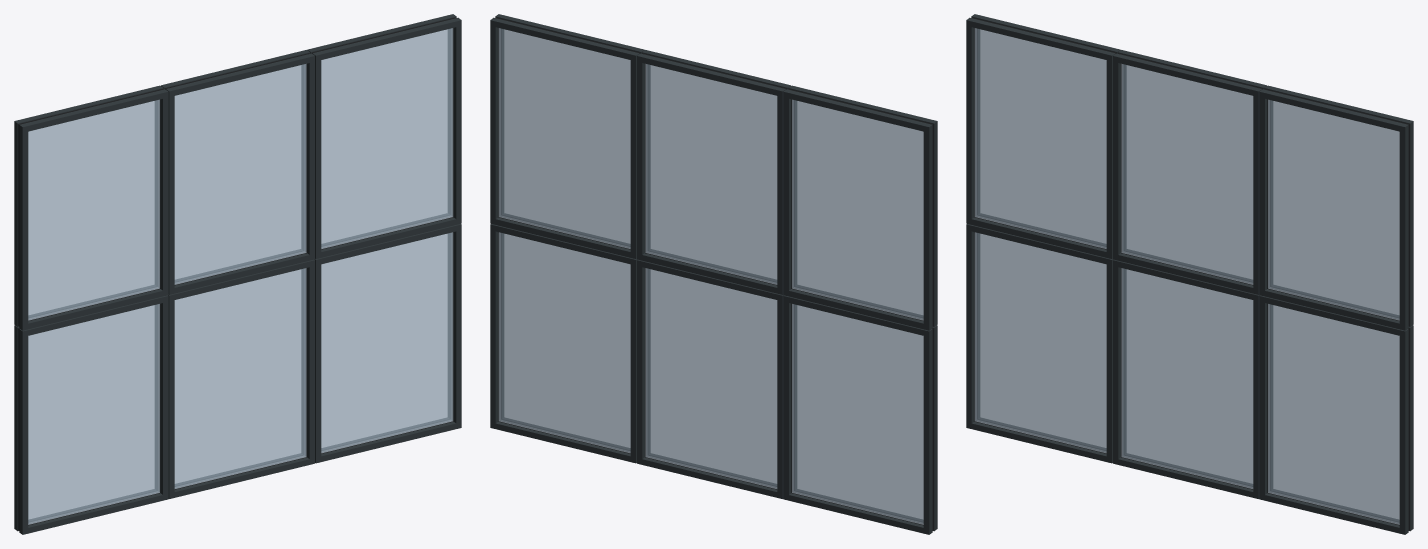
The model's file is masterwall.glb.
The picture shows the model from 3 angles, left to right: view 1: azimuth 30°, elevation 25°; view 2: azimuth 150°, elevation 25°; view 3: azimuth 330°, elevation 25°; orthographic projection.
Parts seen in each view (by area): view 1: MasterWall; view 2: MasterWall; view 3: MasterWall.
Boxes of the visible parts, bbox=[...] form: MasterWall: bbox=[14, 14, 461, 534]; MasterWall: bbox=[490, 14, 937, 534]; MasterWall: bbox=[966, 14, 1413, 534].
Size of the model in its own units: 3.61 by 3.21 by 0.12.
